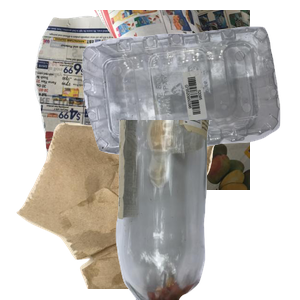glass: (113, 120, 300, 300)
paper: (32, 10, 272, 190)
plastic: (80, 24, 300, 172)
trash: (14, 120, 222, 300)
